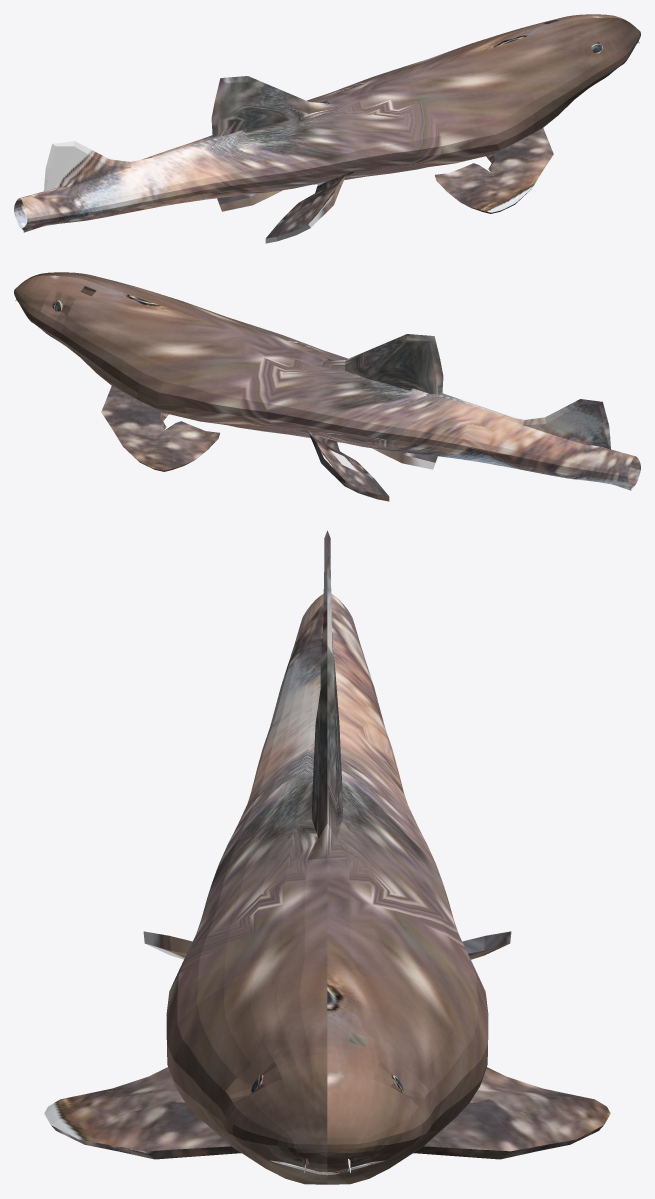
File: cuerpo.obj
3 renders of one model, top to bottom at view 1: azimuth 30°, elevation 25°; view 2: azimuth 150°, elevation 25°; view 3: azimuth 270°, elevation 25°, orthographic. The views are drawn at different scales.
Visible parts, largest first — view 1: polySurface1 Bambooshark_Mesh; view 2: polySurface1 Bambooshark_Mesh; view 3: polySurface1 Bambooshark_Mesh.
Boxes of the visible parts, x1=… form: polySurface1 Bambooshark_Mesh: x1=14, y1=14, x2=640, y2=243; polySurface1 Bambooshark_Mesh: x1=14, y1=272, x2=640, y2=501; polySurface1 Bambooshark_Mesh: x1=44, y1=530, x2=610, y2=1184.
Bounding box in the file's own units: 4.38 × 1.06 × 1.75.
1 material, 1 textured.
